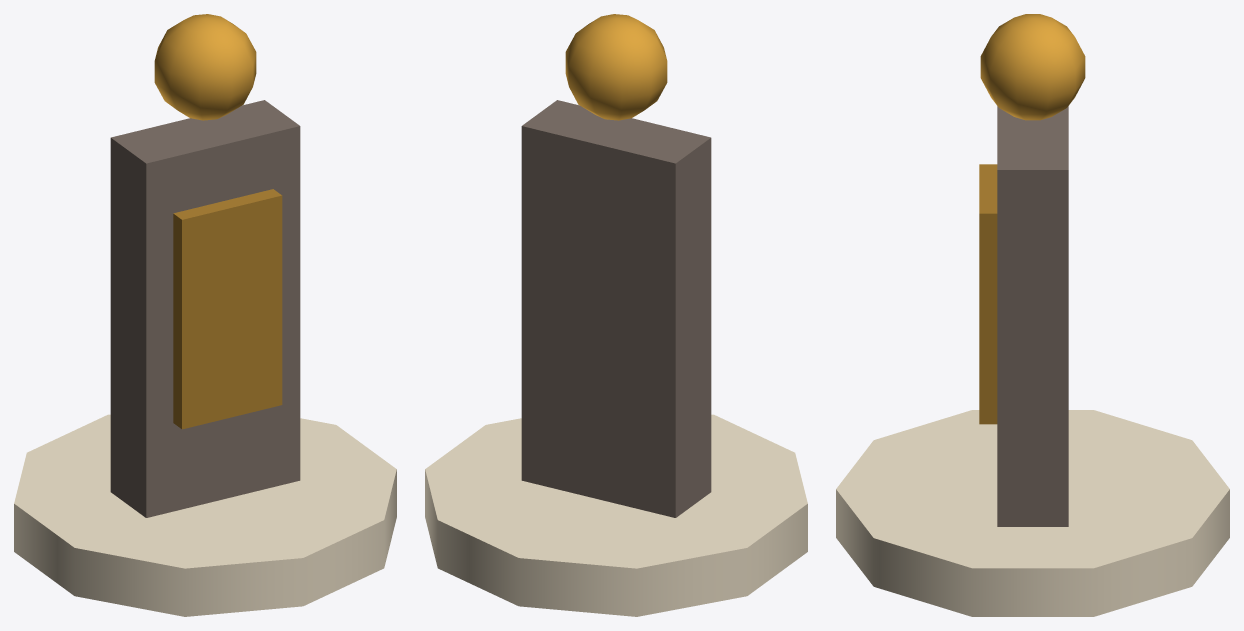
File: node_ji_yuan.glb
3 renders of one model, left to right at view 1: azimuth 30°, elevation 25°; view 2: azimuth 150°, elevation 25°; view 3: azimuth 270°, elevation 25°, orthographic.
Parts seen in each view (by area): view 1: _MeshInstance3D_312, _MeshInstance3D_311, _MeshInstance3D_313, _MeshInstance3D_314; view 2: _MeshInstance3D_312, _MeshInstance3D_311, _MeshInstance3D_314; view 3: _MeshInstance3D_311, _MeshInstance3D_312, _MeshInstance3D_314, _MeshInstance3D_313.
Boxes of the visible parts, left/top/right/bottom form: _MeshInstance3D_312: left=110, top=100, right=300, bottom=517; _MeshInstance3D_311: left=14, top=414, right=396, bottom=616; _MeshInstance3D_313: left=173, top=189, right=282, bottom=429; _MeshInstance3D_314: left=154, top=14, right=256, bottom=120; _MeshInstance3D_312: left=521, top=100, right=711, bottom=517; _MeshInstance3D_311: left=425, top=414, right=807, bottom=616; _MeshInstance3D_314: left=565, top=14, right=667, bottom=120; _MeshInstance3D_311: left=836, top=410, right=1229, bottom=616; _MeshInstance3D_312: left=997, top=106, right=1068, bottom=526; _MeshInstance3D_314: left=980, top=14, right=1085, bottom=120; _MeshInstance3D_313: left=979, top=164, right=997, bottom=424.
Bounding box in the file's own units: 0.4185 × 0.64 × 0.44.
